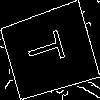T: (24, 26, 74, 69)
